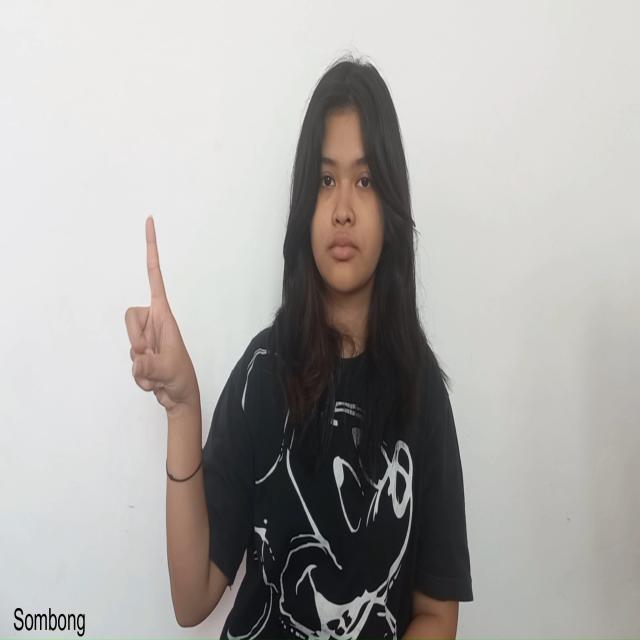Sombong -BISINDO-: (124, 212, 204, 416)
